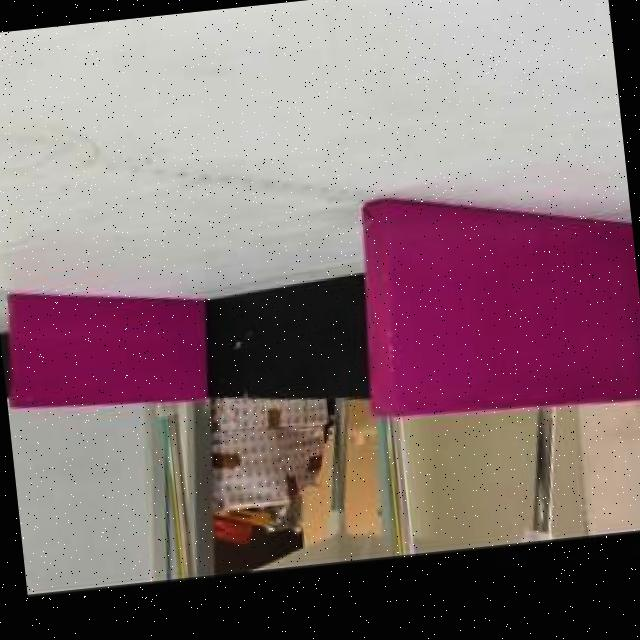xparking: (363, 186, 640, 415), (1, 280, 208, 406)
